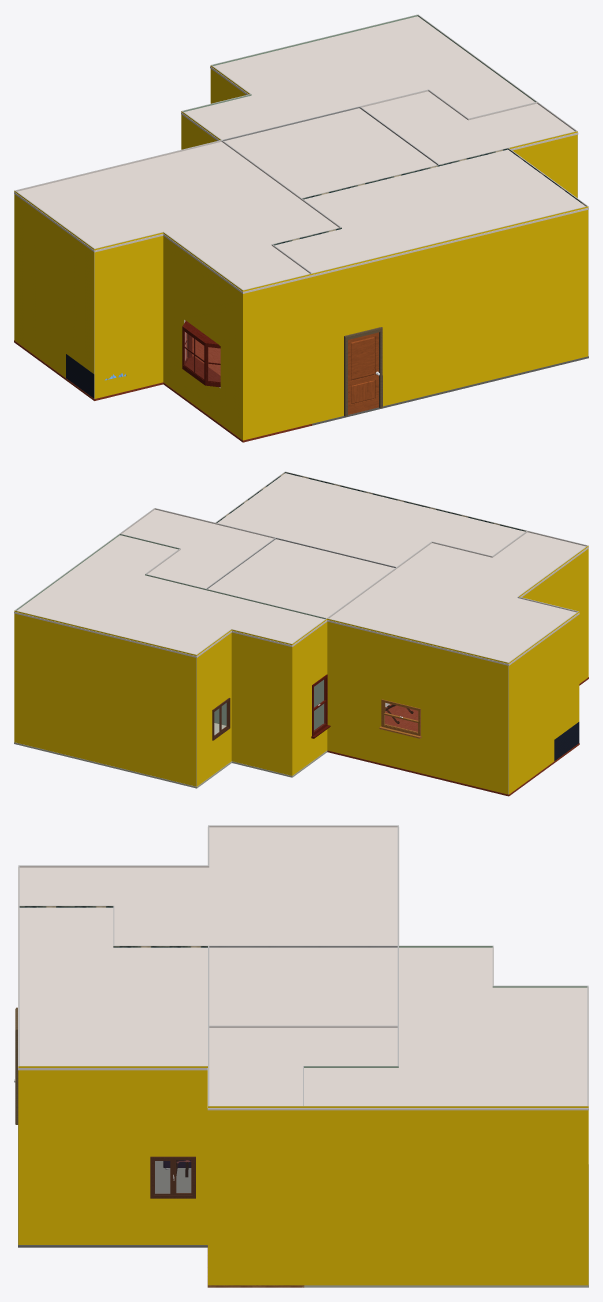
The model's file is ProcTHOR-Train-63.glb.
3 renders of one model, top to bottom at view 1: azimuth 30°, elevation 25°; view 2: azimuth 150°, elevation 25°; view 3: azimuth 270°, elevation 25°, orthographic. The views are drawn at different scales.
Visible parts, largest first — view 1: WallInside#wall|exterior|1.90|11.40|9.50|11.40, Ceiling#room|6|c, Ceiling#room|5|c, Ceiling#room|4|c, WallInside#wall|exterior|13.30|3.80|13.30|7.60, Ceiling#room|2|c, WallInside#wall|exterior|9.50|11.40|11.40|11.40, WallInside#wall|exterior|11.40|7.60|13.30|7.60, WallInside#wall|exterior|11.40|7.60|11.40|11.40, Ceiling#room|3|c, Doorway_4, WallInside#wall|exterior|0.00|7.60|1.90|7.60 (+6 smaller); view 2: WallInside#wall|exterior|0.00|0.00|5.70|0.00, WallInside#wall|exterior|7.60|3.80|13.30|3.80, Ceiling#room|6|c, Ceiling#room|5|c, Ceiling#room|4|c, WallInside#wall|exterior|13.30|3.80|13.30|7.60, WallInside#wall|exterior|5.70|1.90|7.60|1.90, Ceiling#room|2|c, Ceiling#room|3|c, WallInside#wall|exterior|5.70|0.00|5.70|1.90, WallInside#wall|exterior|7.60|1.90|7.60|3.80, WallInside#wall|exterior|11.40|7.60|11.40|11.40 (+8 smaller); view 3: WallInside#wall|exterior|0.00|0.00|0.00|5.70, Ceiling#room|6|c, WallInside#wall|exterior|1.90|7.60|1.90|11.40, Ceiling#room|5|c, Ceiling#room|4|c, WallInside#wall|exterior|0.00|5.70|0.00|7.60, Ceiling#room|2|c, Ceiling#room|3|c, Floor#room|4|f, Window_Slider_36x36, Floor#room|5|f.
Boxes of the visible parts, x1,y1,x2,y2 form: WallInside#wall|exterior|1.90|11.40|9.50|11.40: (312, 206, 588, 423); Ceiling#room|6|c: (14, 142, 338, 293); Ceiling#room|5|c: (181, 16, 534, 140); Ceiling#room|4|c: (271, 150, 588, 276); WallInside#wall|exterior|13.30|3.80|13.30|7.60: (14, 190, 94, 398); Ceiling#room|2|c: (224, 108, 437, 199); WallInside#wall|exterior|9.50|11.40|11.40|11.40: (243, 273, 312, 440); WallInside#wall|exterior|11.40|7.60|13.30|7.60: (94, 232, 163, 398); WallInside#wall|exterior|11.40|7.60|11.40|11.40: (163, 232, 242, 440); Ceiling#room|3|c: (362, 91, 578, 164); Doorway_4: (344, 327, 382, 416); WallInside#wall|exterior|0.00|7.60|1.90|7.60: (509, 131, 577, 197); WallInside#wall|exterior|0.00|0.00|5.70|0.00: (14, 610, 196, 786); WallInside#wall|exterior|7.60|3.80|13.30|3.80: (327, 618, 508, 794); Ceiling#room|6|c: (327, 532, 588, 665); Ceiling#room|5|c: (14, 535, 327, 657); Ceiling#room|4|c: (214, 473, 526, 567); WallInside#wall|exterior|13.30|3.80|13.30|7.60: (509, 611, 579, 794); WallInside#wall|exterior|5.70|1.90|7.60|1.90: (231, 629, 292, 775); Ceiling#room|2|c: (208, 539, 397, 617); Ceiling#room|3|c: (122, 509, 273, 589); WallInside#wall|exterior|5.70|0.00|5.70|1.90: (196, 629, 231, 786); WallInside#wall|exterior|7.60|1.90|7.60|3.80: (292, 618, 327, 775); WallInside#wall|exterior|11.40|7.60|11.40|11.40: (518, 545, 588, 683); WallInside#wall|exterior|0.00|0.00|0.00|5.70: (303, 1106, 588, 1285); Ceiling#room|6|c: (18, 827, 399, 947); WallInside#wall|exterior|1.90|7.60|1.90|11.40: (18, 1066, 207, 1244); Ceiling#room|5|c: (302, 947, 588, 1110); Ceiling#room|4|c: (18, 907, 209, 1070); WallInside#wall|exterior|0.00|5.70|0.00|7.60: (208, 1106, 303, 1285); Ceiling#room|2|c: (207, 948, 399, 1025); Ceiling#room|3|c: (207, 1027, 399, 1110); Floor#room|4|f: (18, 1125, 207, 1247); Window_Slider_36x36: (150, 1156, 195, 1198); Floor#room|5|f: (302, 1164, 588, 1287).
Size of what is drawn, in the model's own units: 13.34 by 4.01 by 11.52.
351 materials, 133 textured.
